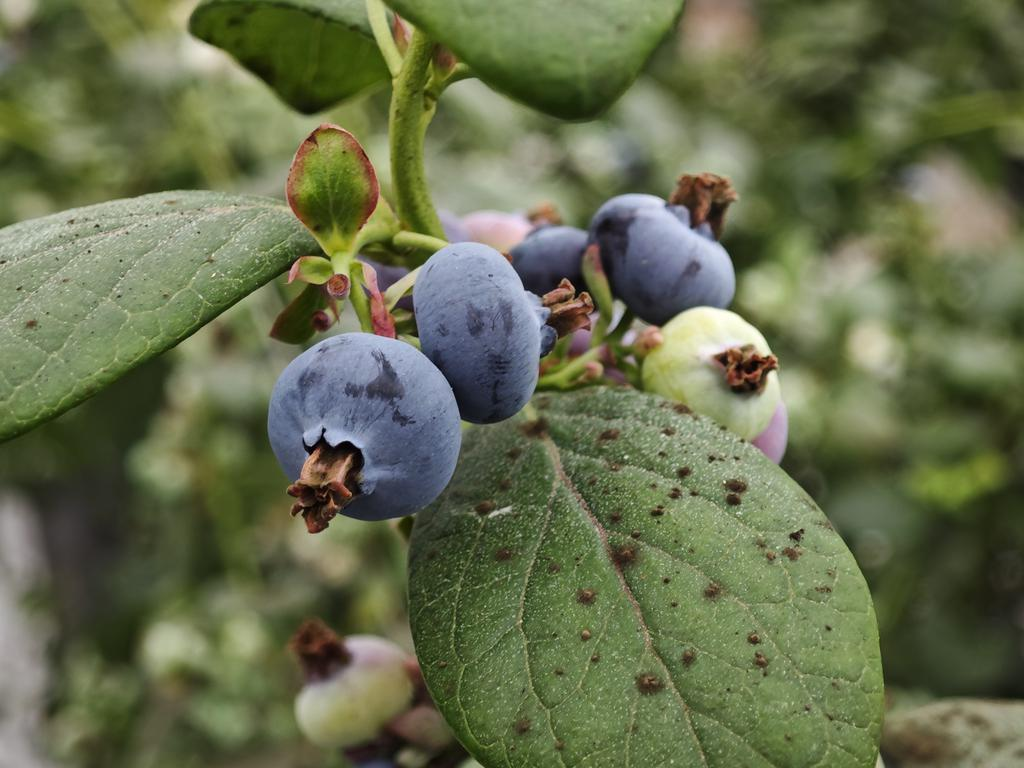RipeBlueBerry: (271, 333, 464, 519), (413, 242, 558, 426)
UnripeBlueBerry: (646, 304, 786, 438)
